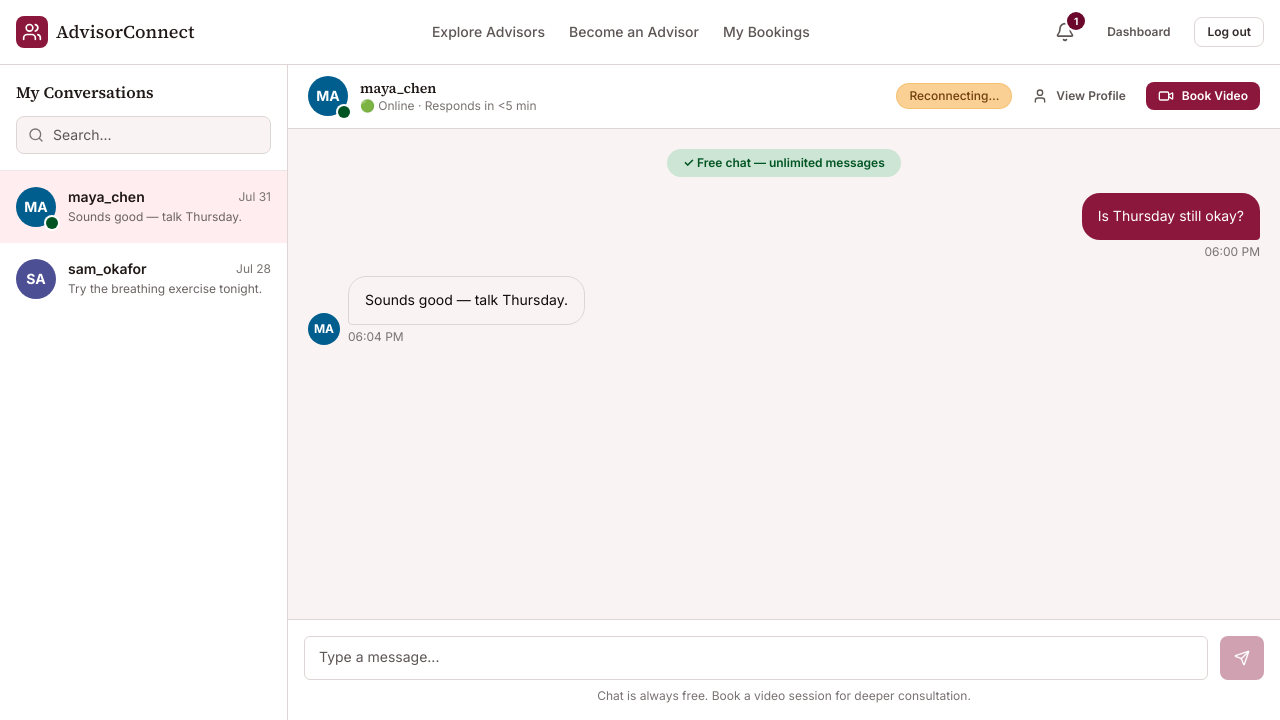
ChatPage › sending over the socket › reports the failure and keeps the draft when the socket is closed
The width and height of the screenshot is (1280, 720).
Expected: the text "Is Thursday still okay?" is shown, [1082,193,1260,240]
In the text box with placeholder "Type a message...": (756, 658) [304,636,1208,680], type "anyone there?"
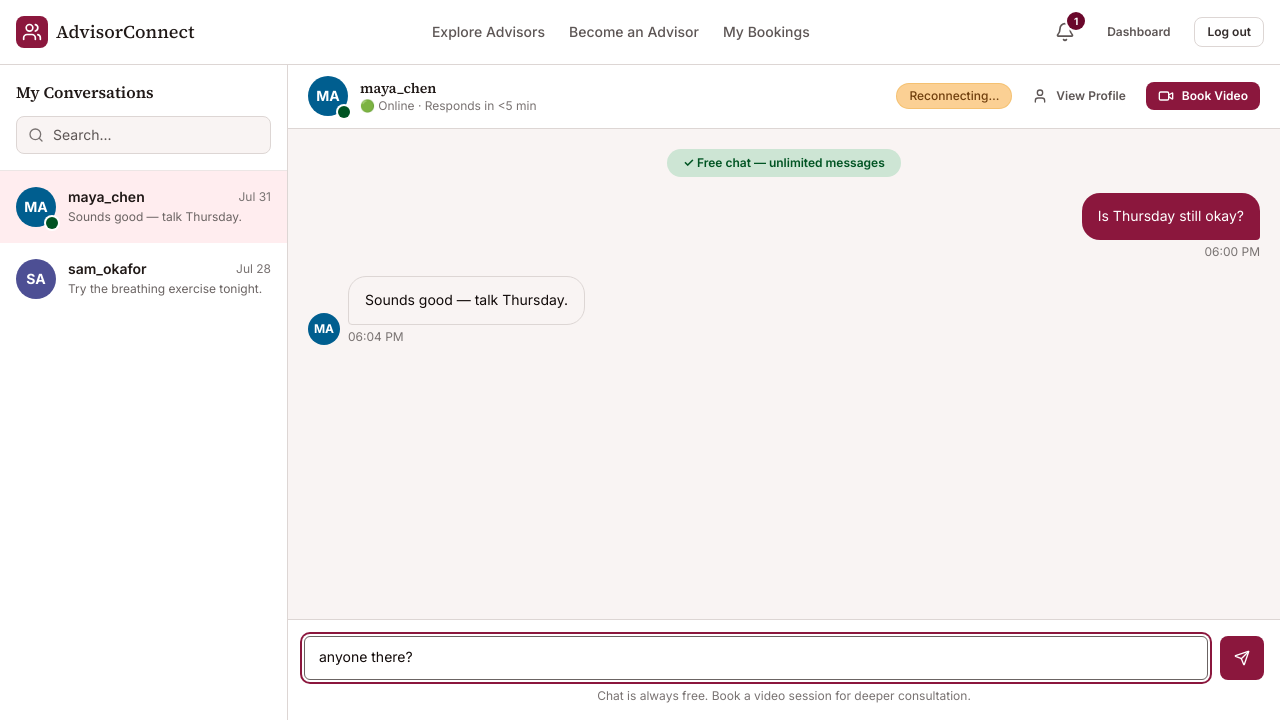
Click the button named "send message": (1242, 658) [1220,636,1264,680]
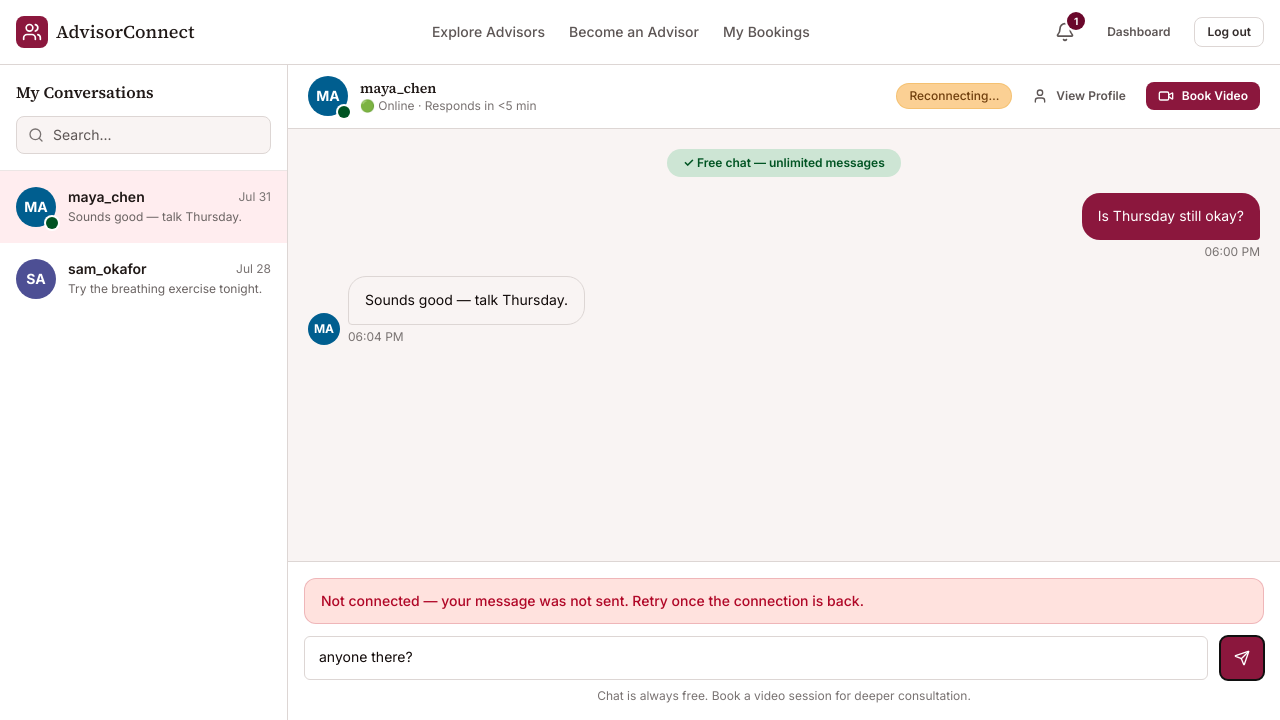
Expected: the message "Not connected — your message was not sent. Retry once the connection is back." is shown, [304,578,1264,624]
